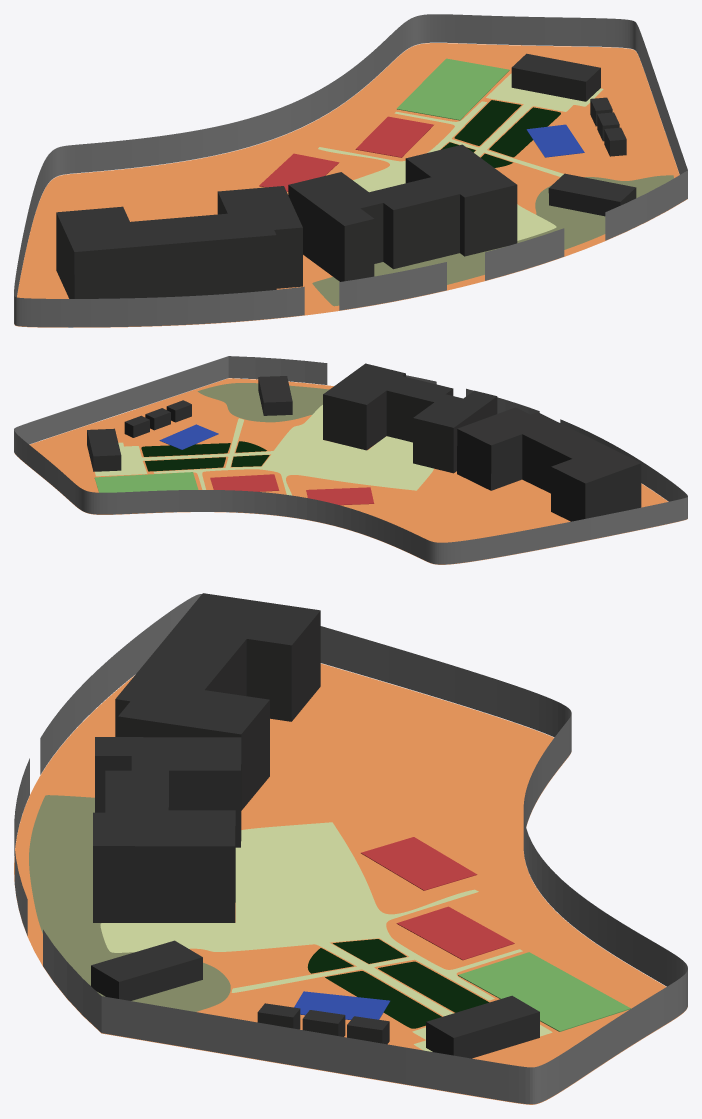
File: 3d_giu.glb
3 views of the same model, one above another, from view 1: azimuth 30°, elevation 25°; view 2: azimuth 150°, elevation 25°; view 3: azimuth 270°, elevation 25° (orthographic). The views are drawn at different scales.
Parts seen in each view (by area): view 1: red sand, border, building (left), building (right), walkway, entrance floors, football, gym, admission, tennis 2, tennis, green bottom right (+3 smaller); view 2: border, red sand, building (left), building (right), walkway, entrance floors, football, gym, admission, tennis 2, tennis, green bottom right (+6 smaller); view 3: red sand, border, building (right), building (left), walkway, entrance floors, football, gym, admission, tennis 2, tennis, green bottom right (+6 smaller).
Boxes of the visible parts, x1,y1,x2,y2 form: red sand: (15,43,687,327); border: (14,14,687,327); building (left): (56,186,302,298); building (right): (288,144,517,281); walkway: (318,73,603,240); entrance floors: (312,175,673,306); football: (396,58,509,120); gym: (511,53,600,101); admission: (548,173,636,216); tennis 2: (355,116,433,157); tennis: (259,153,339,191); green bottom right: (489,107,560,157); border: (14,356,687,564); red sand: (14,378,686,564); building (left): (457,407,641,521); building (right): (323,363,497,473); walkway: (95,405,433,495); entrance floors: (197,383,329,422); football: (94,472,198,492); gym: (87,428,121,471); admission: (258,376,292,415); tennis 2: (210,474,279,491); tennis: (306,487,374,505); green bottom right: (141,443,230,456); red sand: (14,663,686,1104); border: (14,594,687,1104); building (right): (93,737,241,922); building (left): (115,593,320,810); walkway: (100,822,552,1051); entrance floors: (29,795,230,1011); football: (458,952,630,1031); gym: (426,995,539,1058); admission: (91,940,202,1000); tennis 2: (396,906,514,960); tennis: (361,837,477,890); green bottom right: (325,971,441,1028).
Bounding box in the file's own units: 4.5 × 0.3442 × 2.71.
